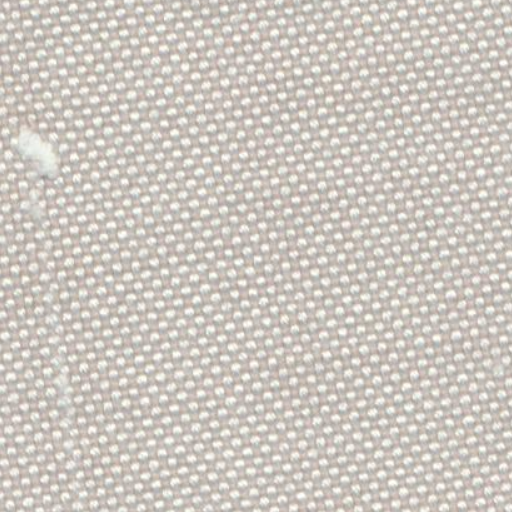MianQiu: (8, 114, 88, 192)
